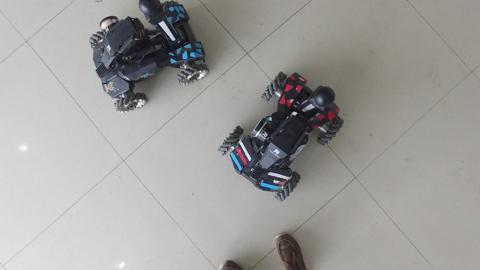chariot: (215, 63, 348, 211), (81, 1, 210, 117)
